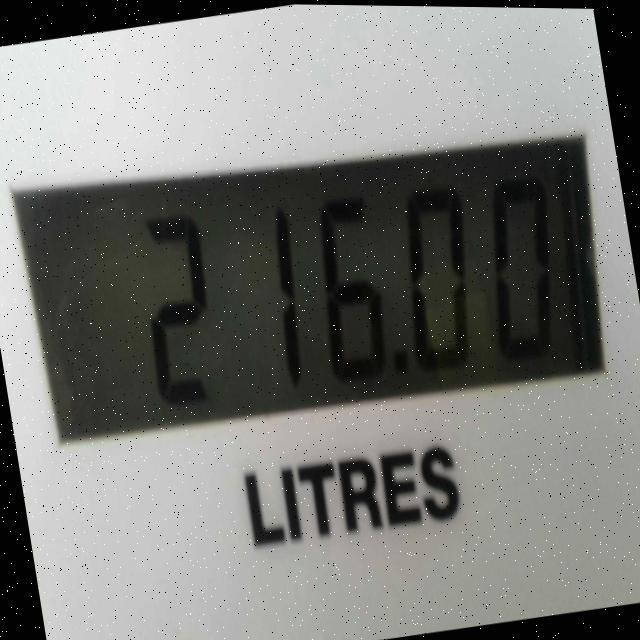.: (382, 336, 416, 397)
0: (472, 159, 584, 385), (378, 167, 490, 390)
1: (234, 191, 326, 401)
2: (100, 190, 240, 424)
6: (293, 168, 402, 406)
